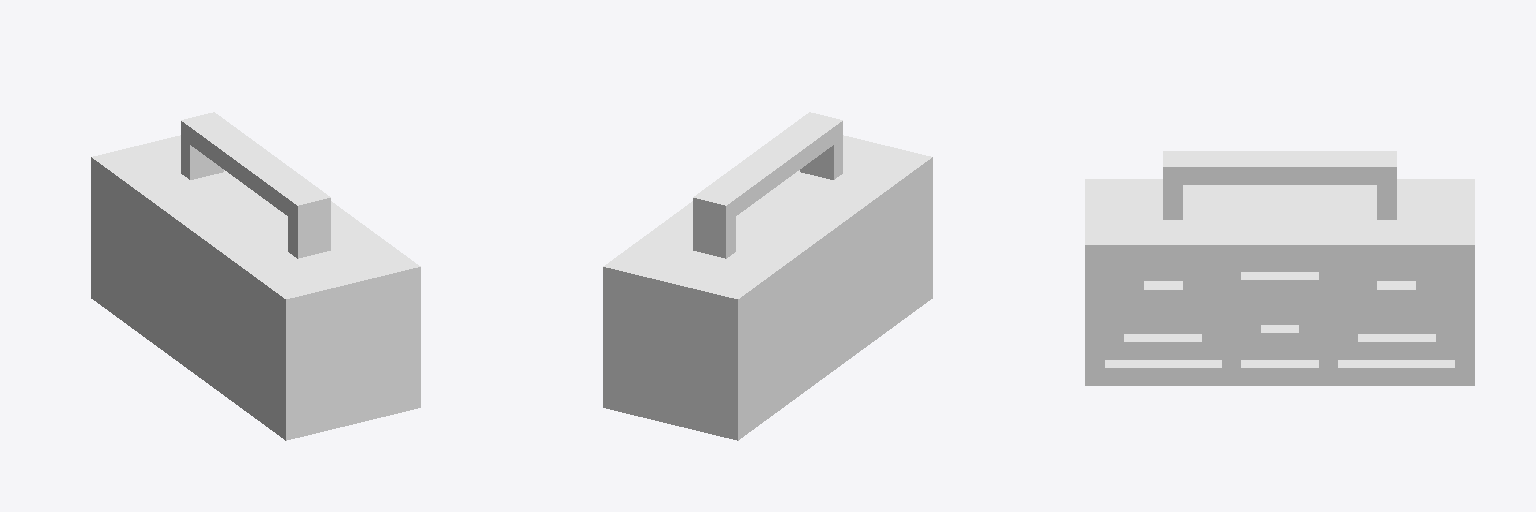
The model's file is boombox.obj.
The picture shows the model from 3 angles: view 1: azimuth 30°, elevation 25°; view 2: azimuth 150°, elevation 25°; view 3: azimuth 270°, elevation 25°; orthographic projection.
Visible parts, largest first — view 1: object 1; view 2: object 1; view 3: object 1.
Boxes of the visible parts, x1=… form: object 1: x1=91, y1=112, x2=420, y2=440; object 1: x1=603, y1=112, x2=932, y2=440; object 1: x1=1085, y1=151, x2=1474, y2=385.
Bounding box in the file's own units: 0.8 × 1.1 × 2.